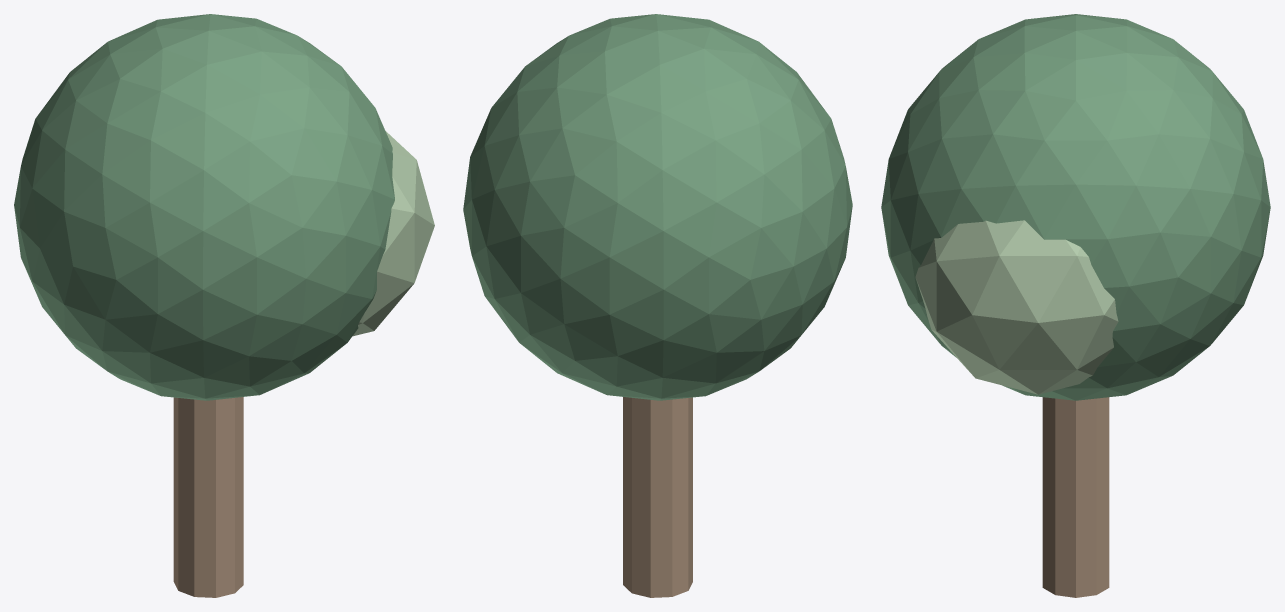
File: tree_deciduous.glb
The picture shows the model from 3 angles, left to right: view 1: azimuth 30°, elevation 25°; view 2: azimuth 150°, elevation 25°; view 3: azimuth 270°, elevation 25°; orthographic projection.
Parts seen in each view (by area): view 1: p001, p000, p002; view 2: p001, p000; view 3: p001, p002, p000.
Part boxes in pixels (x1,y1,x2,y2): p001: (14,14,394,400); p000: (173,397,243,597); p002: (353,131,434,336); p001: (463,14,852,400); p000: (623,397,692,597); p001: (881,14,1270,400); p002: (915,220,1118,394); p000: (1042,397,1109,597).
Size of the model in its own units: 3.3 by 4.85 by 3.1.
